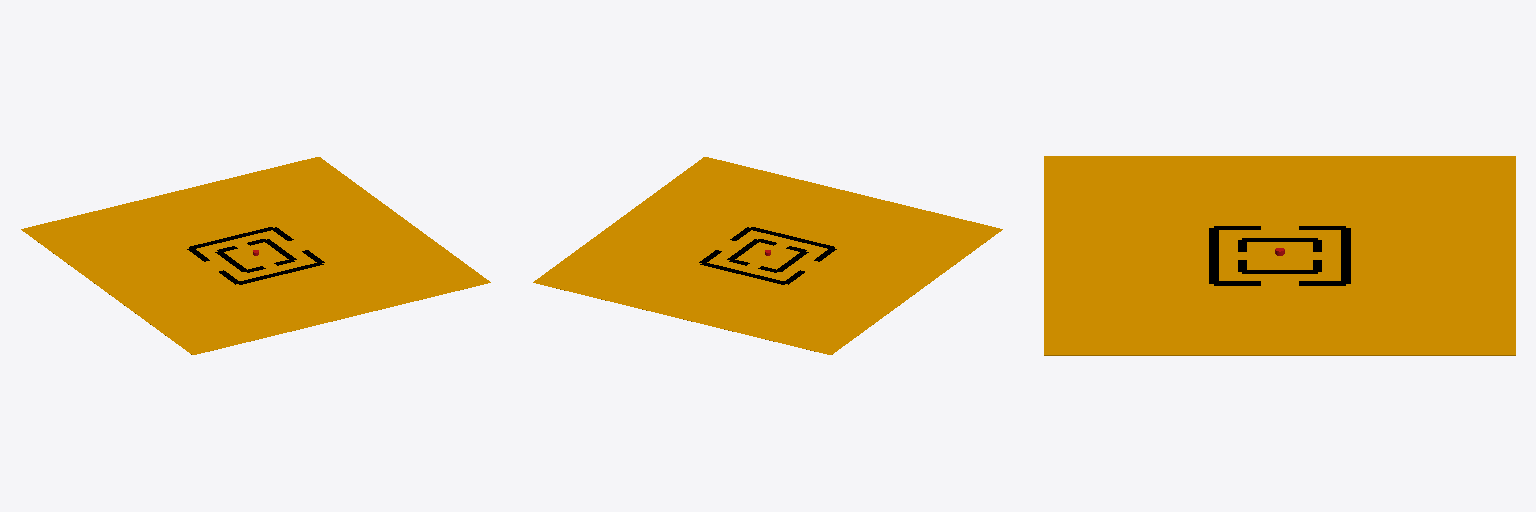
URDF robot description (maze):
<?xml version="1.0" ?>
<!-- =================================================================================== -->
<!-- |    This document was autogenerated by xacro from maze.urdf.xacro                | -->
<!-- |    EDITING THIS FILE BY HAND IS NOT RECOMMENDED                                 | -->
<!-- =================================================================================== -->
<robot name="maze">
  <material name="black">
    <color rgba="0 0 0 1"/>
  </material>
  <material name="red">
    <color rgba="0.8 0.1 0.1 1"/>
  </material>
  <material name="blue">
    <color rgba="0.1 0.1 0.9 1"/>
  </material>
  <material name="white">
    <color rgba="1 1 1 1"/>
  </material>
  <link name="base_link">
    <origin rpy="0.0 0.0 0.0" xyz="0 0 0.00"/>
    <visual>
      <geometry>
        <box size="5 5 0.001"/>
      </geometry>
    </visual>
  </link>
  <link name="obs_l1">
    <visual>
      <origin rpy="0.0 0.0 0.0" xyz="0.0 0.0 0.0"/>
      <geometry>
        <box size="0.1 0.8 0.01"/>
      </geometry>
      <material name="black"/>
    </visual>
    <collision>
      <origin rpy="0.0 0.0 0.0" xyz="0.0 0.0 0.0"/>
      <geometry>
        <box size="0.1 0.8 0.15"/>
      </geometry>
    </collision>
    <inertial>
      <mass value="10000"/>
      <inertia ixx="100" ixy="0" ixz="0" iyy="100" iyz="0" izz="100"/>
    </inertial>
  </link>
  <joint name="base_to_obs_l1" type="fixed">
    <parent link="base_link"/>
    <child link="obs_l1"/>
    <origin xyz="-0.4 0.0 0.0"/>
  </joint>
  <link name="obs_l2">
    <visual>
      <origin rpy="0.0 0.0 0.0" xyz="0.0 0.0 0.0"/>
      <geometry>
        <box size="0.3 0.1 0.01"/>
      </geometry>
      <material name="black"/>
    </visual>
    <collision>
      <origin rpy="0.0 0.0 0.0" xyz="0.0 0.0 0.0"/>
      <geometry>
        <box size="0.3 0.1 0.15"/>
      </geometry>
    </collision>
    <inertial>
      <mass value="10000"/>
      <inertia ixx="100" ixy="0" ixz="0" iyy="100" iyz="0" izz="100"/>
    </inertial>
  </link>
  <joint name="base_to_obs_l2" type="fixed">
    <parent link="base_link"/>
    <child link="obs_l2"/>
    <origin xyz="-0.25 0.4 0.0"/>
  </joint>
  <link name="obs_l3">
    <visual>
      <origin rpy="0.0 0.0 0.0" xyz="0.0 0.0 0.0"/>
      <geometry>
        <box size="0.3 0.1 0.01"/>
      </geometry>
      <material name="black"/>
    </visual>
    <collision>
      <origin rpy="0.0 0.0 0.0" xyz="0.0 0.0 0.0"/>
      <geometry>
        <box size="0.3 0.1 0.15"/>
      </geometry>
    </collision>
    <inertial>
      <mass value="10000"/>
      <inertia ixx="100" ixy="0" ixz="0" iyy="100" iyz="0" izz="100"/>
    </inertial>
  </link>
  <joint name="base_to_obs_l3" type="fixed">
    <parent link="base_link"/>
    <child link="obs_l3"/>
    <origin xyz="-0.25 -0.4 0.0"/>
  </joint>
  <link name="obs_r1">
    <visual>
      <origin rpy="0.0 0.0 0.0" xyz="0.0 0.0 0.0"/>
      <geometry>
        <box size="0.1 0.8 0.01"/>
      </geometry>
      <material name="black"/>
    </visual>
    <collision>
      <origin rpy="0.0 0.0 0.0" xyz="0.0 0.0 0.0"/>
      <geometry>
        <box size="0.1 0.8 0.15"/>
      </geometry>
    </collision>
    <inertial>
      <mass value="10000"/>
      <inertia ixx="100" ixy="0" ixz="0" iyy="100" iyz="0" izz="100"/>
    </inertial>
  </link>
  <joint name="base_to_obs_r1" type="fixed">
    <parent link="base_link"/>
    <child link="obs_r1"/>
    <origin xyz="0.4 0.0 0.0"/>
  </joint>
  <link name="obs_r2">
    <visual>
      <origin rpy="0.0 0.0 0.0" xyz="0.0 0.0 0.0"/>
      <geometry>
        <box size="0.3 0.1 0.01"/>
      </geometry>
      <material name="black"/>
    </visual>
    <collision>
      <origin rpy="0.0 0.0 0.0" xyz="0.0 0.0 0.0"/>
      <geometry>
        <box size="0.3 0.1 0.15"/>
      </geometry>
    </collision>
    <inertial>
      <mass value="10000"/>
      <inertia ixx="100" ixy="0" ixz="0" iyy="100" iyz="0" izz="100"/>
    </inertial>
  </link>
  <joint name="base_to_obs_r2" type="fixed">
    <parent link="base_link"/>
    <child link="obs_r2"/>
    <origin xyz="0.25 0.4 0.0"/>
  </joint>
  <link name="obs_r3">
    <visual>
      <origin rpy="0.0 0.0 0.0" xyz="0.0 0.0 0.0"/>
      <geometry>
        <box size="0.3 0.1 0.01"/>
      </geometry>
      <material name="black"/>
    </visual>
    <collision>
      <origin rpy="0.0 0.0 0.0" xyz="0.0 0.0 0.0"/>
      <geometry>
        <box size="0.3 0.1 0.15"/>
      </geometry>
    </collision>
    <inertial>
      <mass value="10000"/>
      <inertia ixx="100" ixy="0" ixz="0" iyy="100" iyz="0" izz="100"/>
    </inertial>
  </link>
  <joint name="base_to_obs_r3" type="fixed">
    <parent link="base_link"/>
    <child link="obs_r3"/>
    <origin xyz="0.25 -0.4 0.0"/>
  </joint>
  <link name="obs_t1">
    <visual>
      <origin rpy="0.0 0.0 0.0" xyz="0.0 0.0 0.0"/>
      <geometry>
        <box size="1.4 0.1 0.01"/>
      </geometry>
      <material name="black"/>
    </visual>
    <collision>
      <origin rpy="0.0 0.0 0.0" xyz="0.0 0.0 0.0"/>
      <geometry>
        <box size="1.4 0.1 0.15"/>
      </geometry>
    </collision>
    <inertial>
      <mass value="10000"/>
      <inertia ixx="100" ixy="0" ixz="0" iyy="100" iyz="0" izz="100"/>
    </inertial>
  </link>
  <joint name="base_to_obs_t1" type="fixed">
    <parent link="base_link"/>
    <child link="obs_t1"/>
    <origin xyz="0.0 0.7 0.0"/>
  </joint>
  <link name="obs_t2">
    <visual>
      <origin rpy="0.0 0.0 0.0" xyz="0.0 0.0 0.0"/>
      <geometry>
        <box size="0.1 0.5 0.01"/>
      </geometry>
      <material name="black"/>
    </visual>
    <collision>
      <origin rpy="0.0 0.0 0.0" xyz="0.0 0.0 0.0"/>
      <geometry>
        <box size="0.1 0.5 0.15"/>
      </geometry>
    </collision>
    <inertial>
      <mass value="10000"/>
      <inertia ixx="100" ixy="0" ixz="0" iyy="100" iyz="0" izz="100"/>
    </inertial>
  </link>
  <joint name="base_to_obs_t2" type="fixed">
    <parent link="base_link"/>
    <child link="obs_t2"/>
    <origin xyz="-0.7 0.44999999999999996 0.0"/>
  </joint>
  <link name="obs_t3">
    <visual>
      <origin rpy="0.0 0.0 0.0" xyz="0.0 0.0 0.0"/>
      <geometry>
        <box size="0.1 0.5 0.01"/>
      </geometry>
      <material name="black"/>
    </visual>
    <collision>
      <origin rpy="0.0 0.0 0.0" xyz="0.0 0.0 0.0"/>
      <geometry>
        <box size="0.1 0.5 0.15"/>
      </geometry>
    </collision>
    <inertial>
      <mass value="10000"/>
      <inertia ixx="100" ixy="0" ixz="0" iyy="100" iyz="0" izz="100"/>
    </inertial>
  </link>
  <joint name="base_to_obs_t3" type="fixed">
    <parent link="base_link"/>
    <child link="obs_t3"/>
    <origin xyz="0.7 0.44999999999999996 0.0"/>
  </joint>
  <link name="obs_b1">
    <visual>
      <origin rpy="0.0 0.0 0.0" xyz="0.0 0.0 0.0"/>
      <geometry>
        <box size="1.4 0.1 0.01"/>
      </geometry>
      <material name="black"/>
    </visual>
    <collision>
      <origin rpy="0.0 0.0 0.0" xyz="0.0 0.0 0.0"/>
      <geometry>
        <box size="1.4 0.1 0.15"/>
      </geometry>
    </collision>
    <inertial>
      <mass value="10000"/>
      <inertia ixx="100" ixy="0" ixz="0" iyy="100" iyz="0" izz="100"/>
    </inertial>
  </link>
  <joint name="base_to_obs_b1" type="fixed">
    <parent link="base_link"/>
    <child link="obs_b1"/>
    <origin xyz="0.0 -0.7 0.0"/>
  </joint>
  <link name="obs_b2">
    <visual>
      <origin rpy="0.0 0.0 0.0" xyz="0.0 0.0 0.0"/>
      <geometry>
        <box size="0.1 0.5 0.01"/>
      </geometry>
      <material name="black"/>
    </visual>
    <collision>
      <origin rpy="0.0 0.0 0.0" xyz="0.0 0.0 0.0"/>
      <geometry>
        <box size="0.1 0.5 0.15"/>
      </geometry>
    </collision>
    <inertial>
      <mass value="10000"/>
      <inertia ixx="100" ixy="0" ixz="0" iyy="100" iyz="0" izz="100"/>
    </inertial>
  </link>
  <joint name="base_to_obs_b2" type="fixed">
    <parent link="base_link"/>
    <child link="obs_b2"/>
    <origin xyz="-0.7 -0.44999999999999996 0.0"/>
  </joint>
  <link name="obs_b3">
    <visual>
      <origin rpy="0.0 0.0 0.0" xyz="0.0 0.0 0.0"/>
      <geometry>
        <box size="0.1 0.5 0.01"/>
      </geometry>
      <material name="black"/>
    </visual>
    <collision>
      <origin rpy="0.0 0.0 0.0" xyz="0.0 0.0 0.0"/>
      <geometry>
        <box size="0.1 0.5 0.15"/>
      </geometry>
    </collision>
    <inertial>
      <mass value="10000"/>
      <inertia ixx="100" ixy="0" ixz="0" iyy="100" iyz="0" izz="100"/>
    </inertial>
  </link>
  <joint name="base_to_obs_b3" type="fixed">
    <parent link="base_link"/>
    <child link="obs_b3"/>
    <origin xyz="0.7 -0.44999999999999996 0.0"/>
  </joint>
  <!--   <xacro:obs name="w1" l="2.0" b="0.1" x="0" y="1.0"/>-->
  <!--   <xacro:obs name="w2" l="2.0" b="0.1" x="0" y="-1.0"/>-->
  <!--   <xacro:obs name="w3" l=".1" b="2.0" x="-1.0" y="0.0"/>-->
  <!--   <xacro:obs name="w4" l=".1" b="2.0" x="1.0" y="0.0"/>-->
  <link name="bot_x">
    <origin rpy="0.0 0.0 0.0" xyz="0.0 0.0 0.0"/>
  </link>
  <link name="bot">
    <visual>
      <origin rpy="0.0 0.0 0.0" xyz="0 0 0.03"/>
      <geometry>
        <cylinder length="0.05" radius="0.05"/>
      </geometry>
      <material name="red"/>
    </visual>
    <collision>
      <origin rpy="0.0 0.0 0.0" xyz="0 0 0.03"/>
      <geometry>
        <cylinder length="0.05" radius="0.05"/>
      </geometry>
    </collision>
    <inertial>
      <origin rpy="0 0 0" xyz="0 0 0"/>
      <mass value="0.2"/>
    </inertial>
  </link>
  <joint name="base_to_bot_x" type="prismatic">
    <parent link="base_link"/>
    <child link="bot_x"/>
    <origin rpy="0 0 0" xyz="0 0 0.01"/>
    <axis xyz="1 0 0"/>
  </joint>
  <joint name="bot_x_to_bot" type="prismatic">
    <parent link="bot_x"/>
    <child link="bot"/>
    <origin rpy="0 0 0" xyz="0 0 0.01"/>
    <axis xyz="0 1 0"/>
  </joint>
</robot>

--- Render facts (derived) ---
The picture shows the robot from 3 angles, left to right: view 1: azimuth 30°, elevation 25°; view 2: azimuth 150°, elevation 25°; view 3: azimuth 270°, elevation 25°; orthographic projection.
Robot: maze — 15 links, 14 joints (2 prismatic, 12 fixed); root link base_link; default pose: all joints at 0.
Links seen in each view (by area): view 1: base_link; view 2: base_link; view 3: base_link, obs_b1, obs_t1.
Boxes of the visible links, box(x1,y1,x2,y2) form: base_link: box(21, 157, 490, 354); base_link: box(533, 157, 1002, 354); base_link: box(1044, 156, 1515, 355); obs_b1: box(1209, 228, 1218, 283); obs_t1: box(1341, 228, 1350, 283).
Bounding box of the posed robot: 5 × 5 × 0.08 m (x, y, z).
Geometry: primitives only (box / cylinder / sphere), no mesh files.